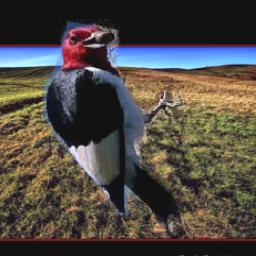Woodpecker: (43, 12, 194, 237)
